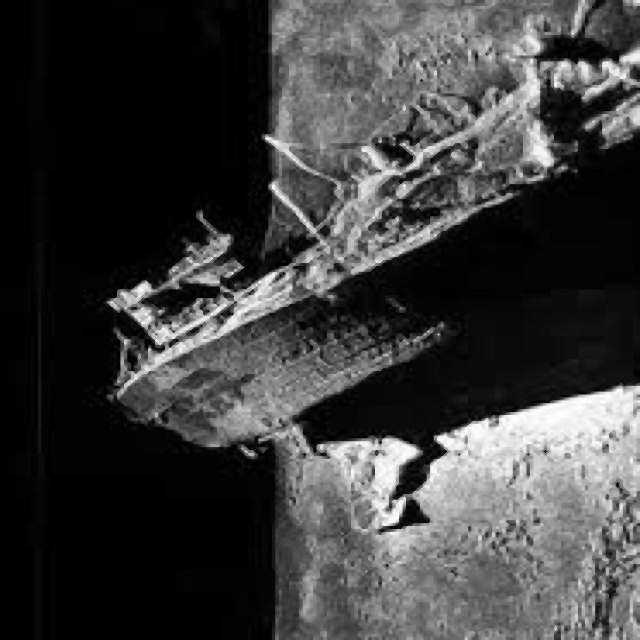Ship: (95, 14, 640, 462)
